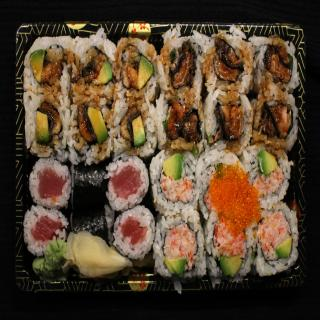Sushi: (22, 24, 300, 280), (112, 205, 154, 261)
